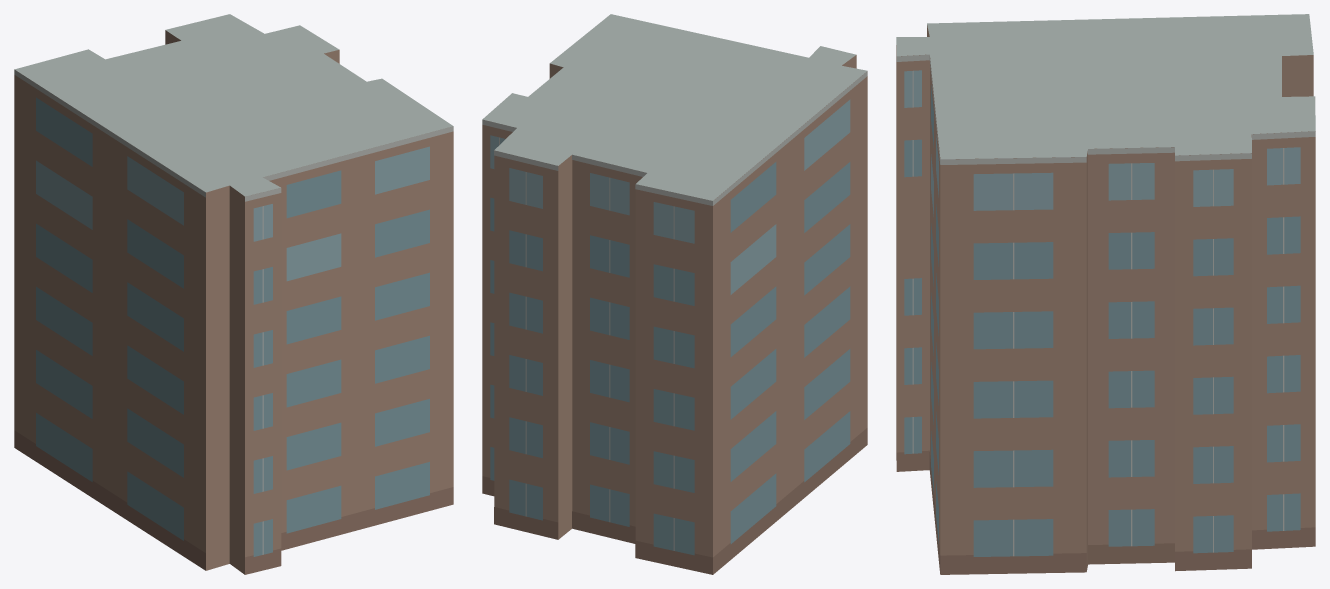
File: survey-upis-32727694.glb
The picture shows the model from 3 angles, left to right: view 1: azimuth 30°, elevation 25°; view 2: azimuth 150°, elevation 25°; view 3: azimuth 270°, elevation 25°; orthographic projection. The views are drawn at different scales.
Parts seen in each view (by area): view 1: survey-upis-32727694.tmp; view 2: survey-upis-32727694.tmp; view 3: survey-upis-32727694.tmp.
Part boxes in pixels (<box>): survey-upis-32727694.tmp: <box>14,14,453,574</box>; survey-upis-32727694.tmp: <box>482,14,867,574</box>; survey-upis-32727694.tmp: <box>896,14,1315,574</box>.
Size of the model in its own units: 13.29 by 17.7 by 16.2.
